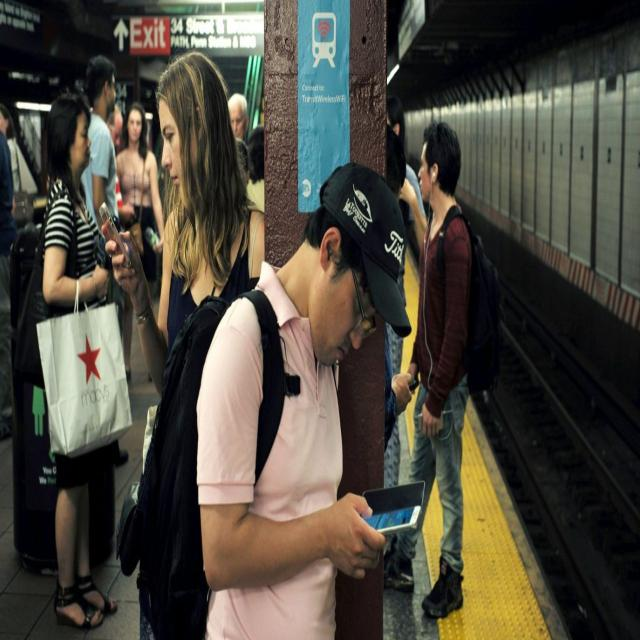body: (129, 158, 429, 639), (95, 46, 265, 639), (382, 118, 510, 623), (32, 91, 118, 631), (382, 100, 432, 601), (115, 102, 165, 383), (0, 91, 38, 395), (80, 55, 118, 245), (226, 81, 268, 225), (105, 100, 126, 156)
